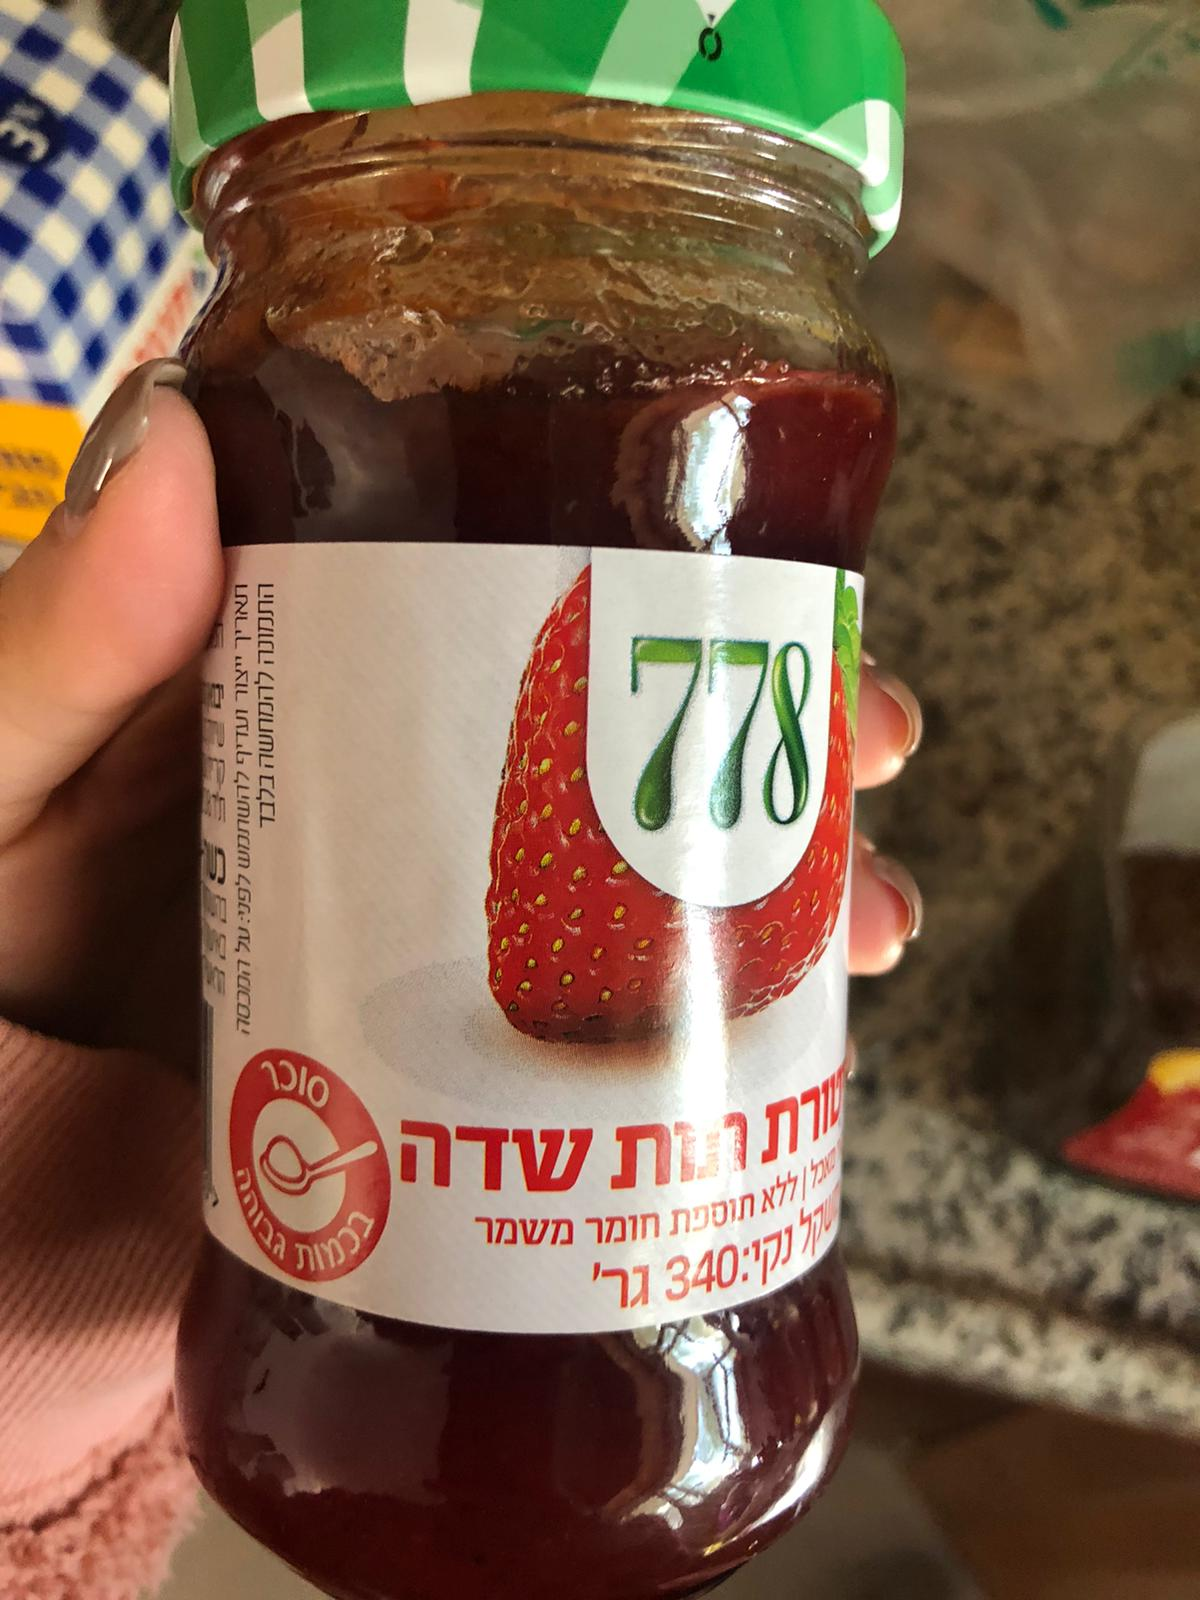sugar: (229, 1048, 395, 1288)
